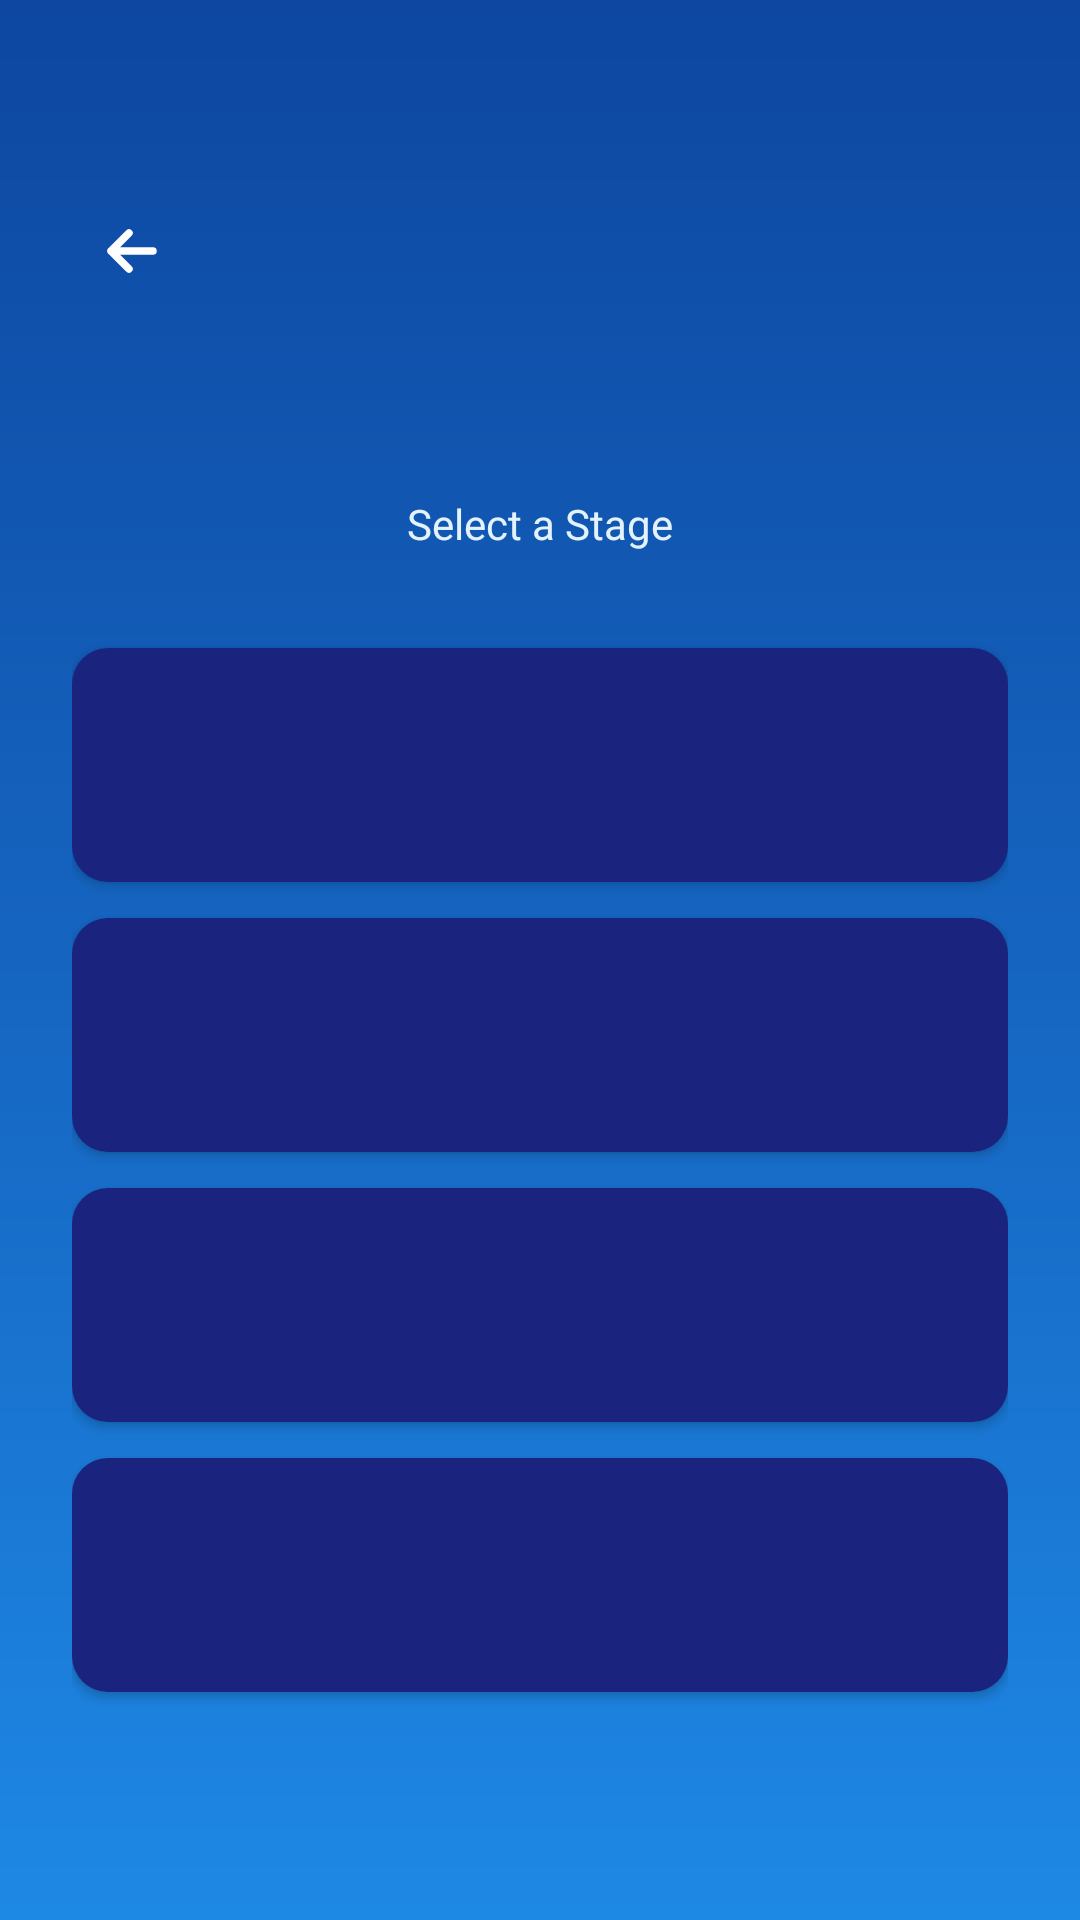

Where to tap for icons on this 1080×1920 app screen, as (x=x, y=y):
Back: (x=132, y=251)
